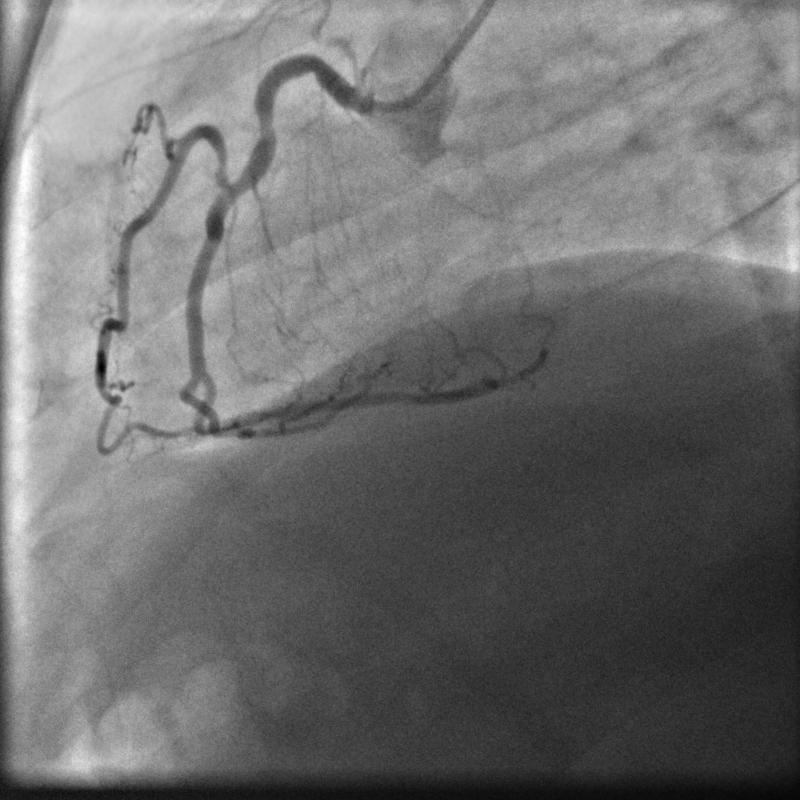Stenosis: (252, 104, 279, 142)
